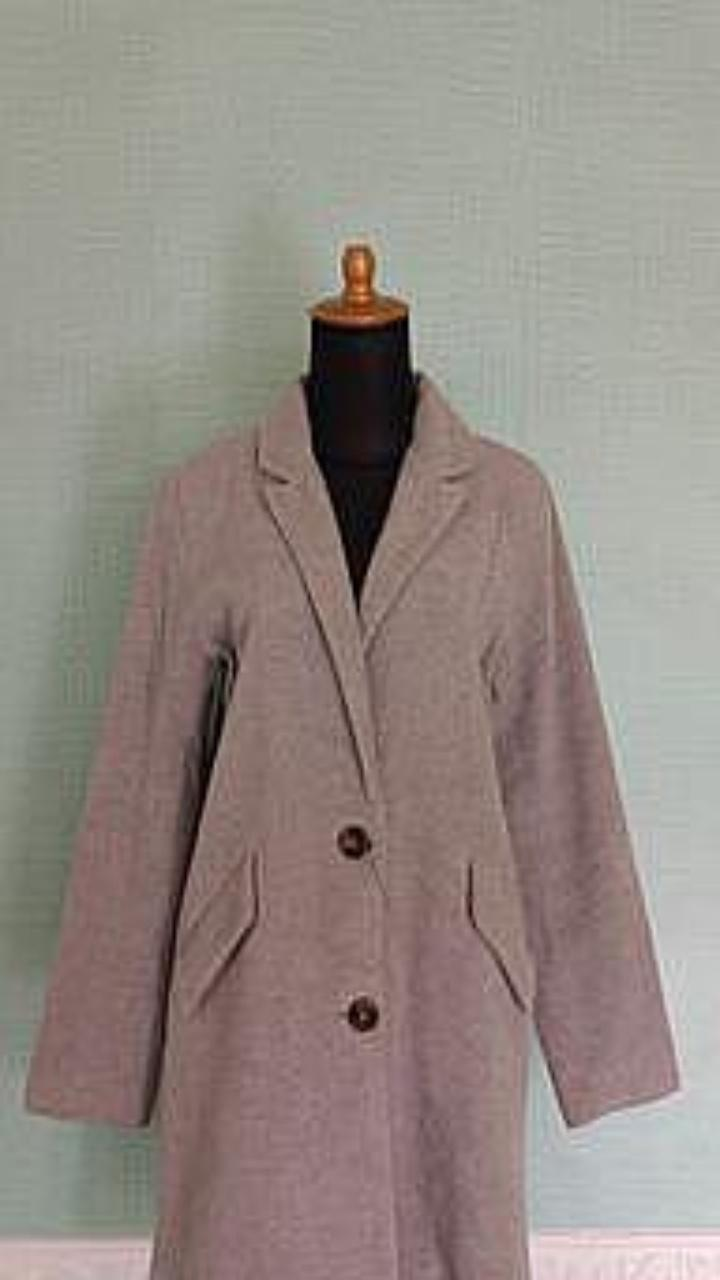Coat: (25, 373, 679, 1279)
